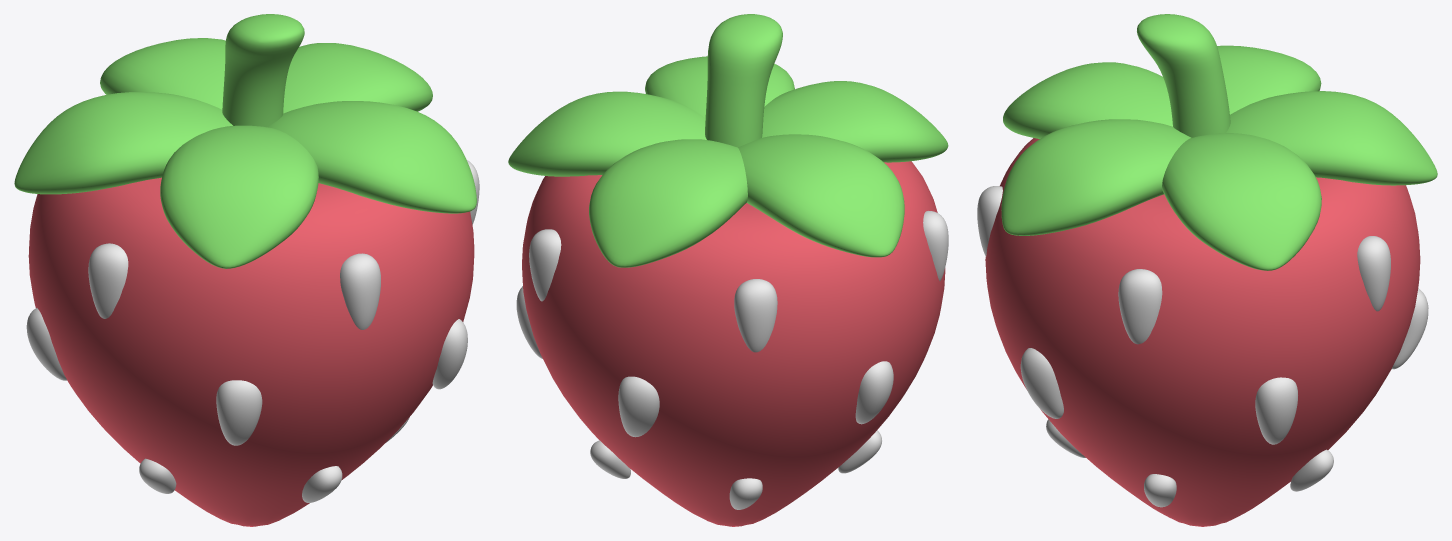
File: strawberry.fbx
The picture shows the model from 3 angles, left to right: view 1: azimuth 30°, elevation 25°; view 2: azimuth 150°, elevation 25°; view 3: azimuth 270°, elevation 25°; orthographic projection. The views are drawn at different scales.
Parts seen in each view (by area): view 1: Sphere.001, Cube.001, Cube.002, Cube.004, Cube.003, Cube.005; view 2: Sphere.001, Cube.001, Cube.002, Cube.003, Cube.004, Cube.005; view 3: Sphere.001, Cube.001, Cube.002, Cube.003, Cube.004, Cube.005.
Boxes of the visible parts, box(x1,y1,x2,y2) form: Sphere.001: box(28, 177, 474, 526); Cube.001: box(14, 38, 476, 268); Cube.002: box(222, 14, 304, 127); Cube.004: box(26, 308, 467, 445); Cube.003: box(88, 160, 479, 329); Cube.005: box(139, 417, 409, 502); Sphere.001: box(522, 161, 945, 526); Cube.001: box(508, 56, 948, 267); Cube.002: box(705, 14, 782, 147); Cube.003: box(529, 210, 948, 352); Cube.004: box(516, 286, 893, 437); Cube.005: box(590, 430, 881, 509); Sphere.001: box(985, 138, 1420, 526); Cube.001: box(1001, 45, 1437, 270); Cube.002: box(1137, 14, 1230, 137); Cube.003: box(977, 186, 1390, 344); Cube.004: box(1020, 288, 1428, 444); Cube.005: box(1046, 419, 1333, 507).
Size of the model in its own units: 201 by 244 by 198.
